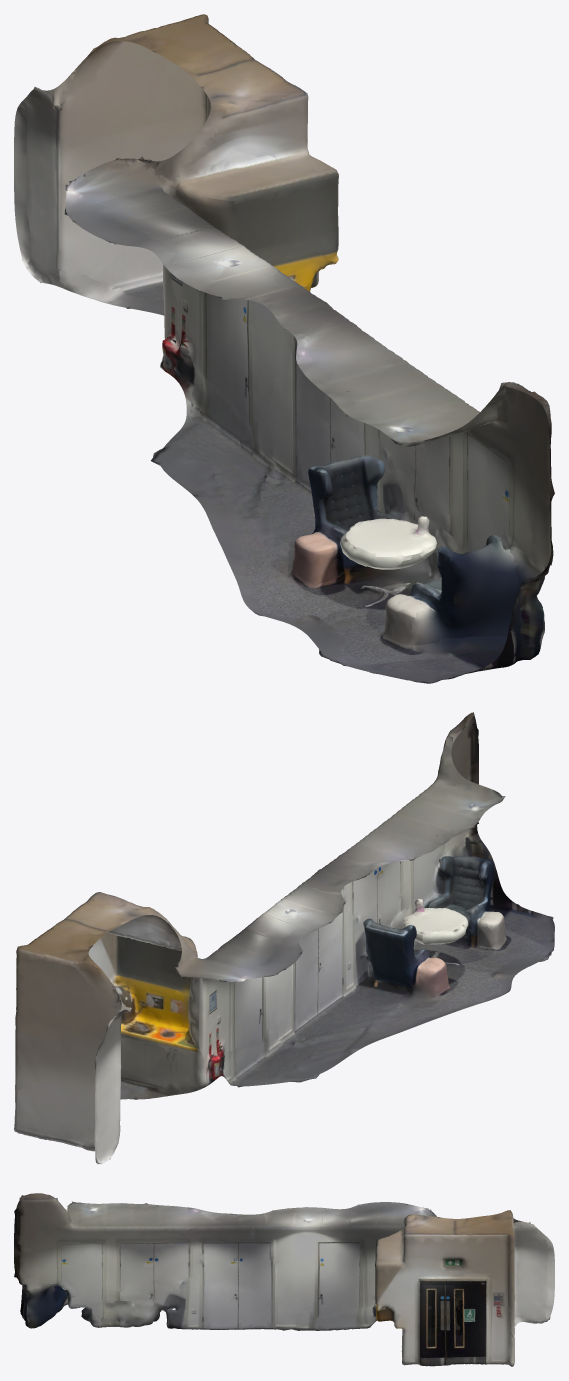
3 renders of one model, top to bottom at view 1: azimuth 30°, elevation 25°; view 2: azimuth 150°, elevation 25°; view 3: azimuth 270°, elevation 25°, orthographic. The views are drawn at different scales.
Parts seen in each view (by area): view 1: node_9326225a_c06d_4237_86e2_114ee3463c69_mesh0; view 2: node_9326225a_c06d_4237_86e2_114ee3463c69_mesh0; view 3: node_9326225a_c06d_4237_86e2_114ee3463c69_mesh0.
Part boxes in pixels (x1,y1,x2,y2): node_9326225a_c06d_4237_86e2_114ee3463c69_mesh0: [14, 14, 554, 683]; node_9326225a_c06d_4237_86e2_114ee3463c69_mesh0: [14, 712, 554, 1164]; node_9326225a_c06d_4237_86e2_114ee3463c69_mesh0: [14, 1193, 554, 1366].
Bounding box in the file's own units: 416 × 339 × 1195.
1 material, 1 textured.
